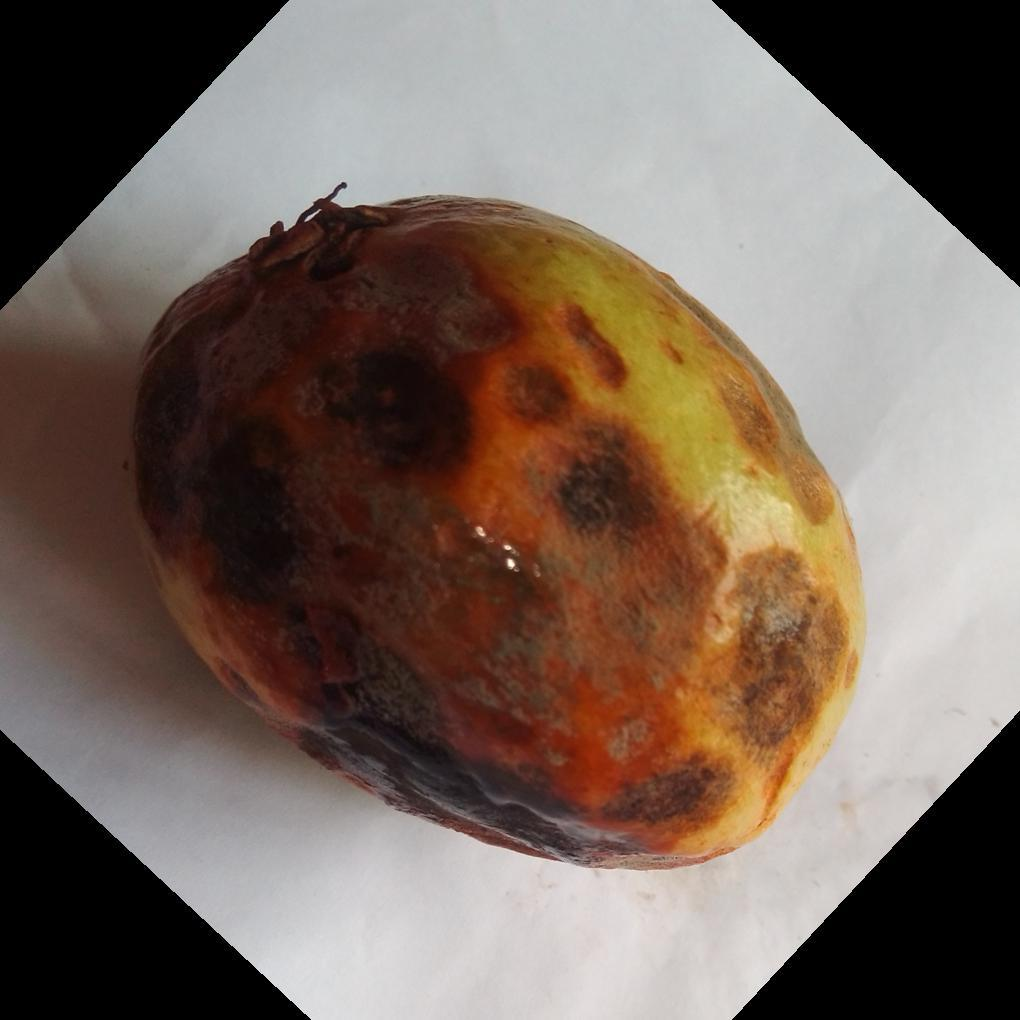FreshOrange: (127, 195, 867, 875)
